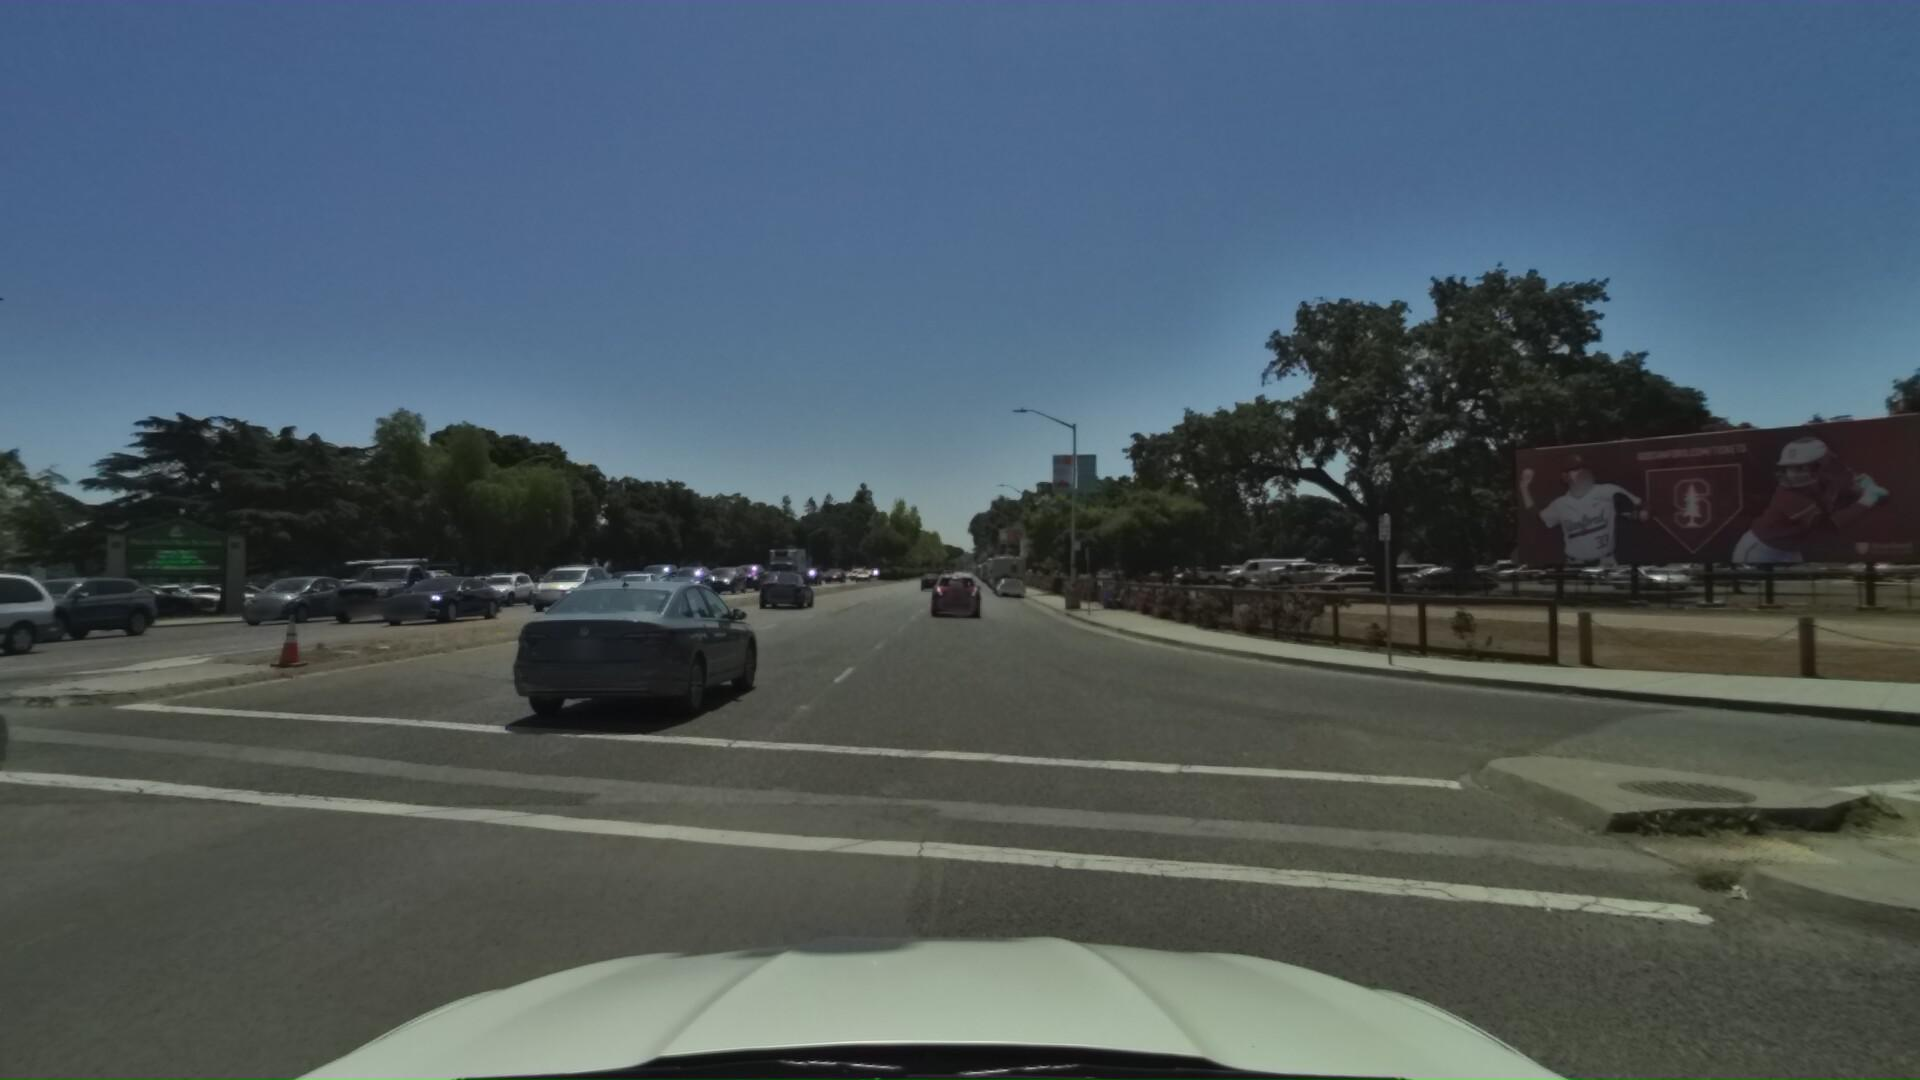car: (496, 562, 769, 731), (311, 549, 465, 618), (218, 568, 353, 625), (359, 571, 502, 624), (375, 559, 476, 608), (521, 556, 616, 605), (465, 563, 541, 603), (928, 563, 982, 615), (756, 568, 818, 608), (605, 564, 670, 597), (632, 554, 691, 589), (663, 556, 717, 589), (700, 559, 748, 589), (728, 556, 773, 585), (944, 564, 981, 595), (993, 564, 1026, 589), (919, 564, 943, 583)
other_vehicle: (992, 543, 1025, 582)
